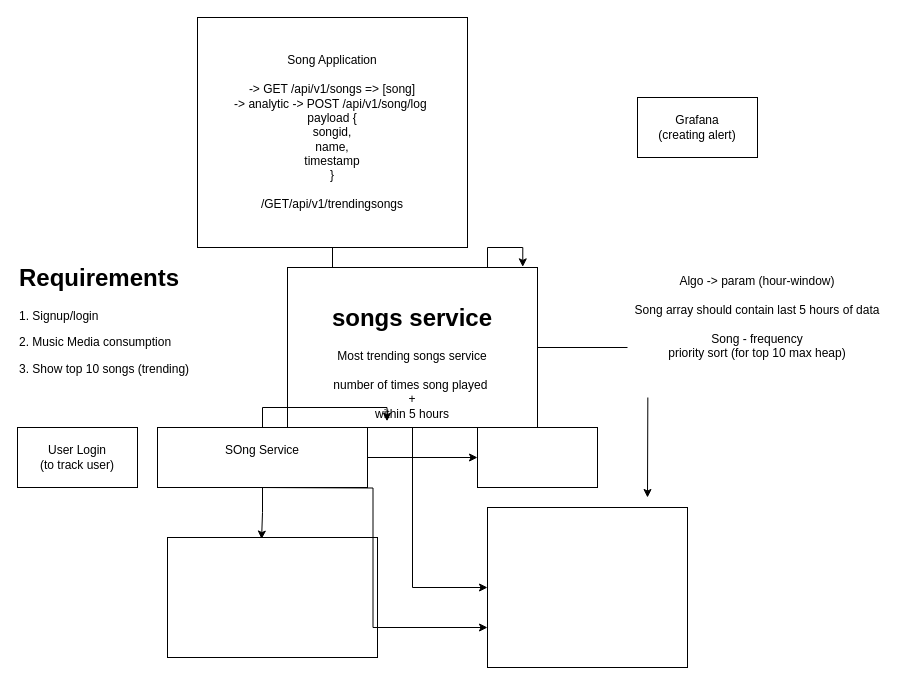
The diagram is 905 pixels wide and 685 high, and some of its shapes have lost their labels. The shapes that lost their labels are listed below. From the top down, each one's centre as x and y in pixels, then its label:
the point at 537,457: AWS
the point at 272,597: Song DB name, tags, url
the point at 587,587: Time DB -> when song played name id Query => time + groupbysong
